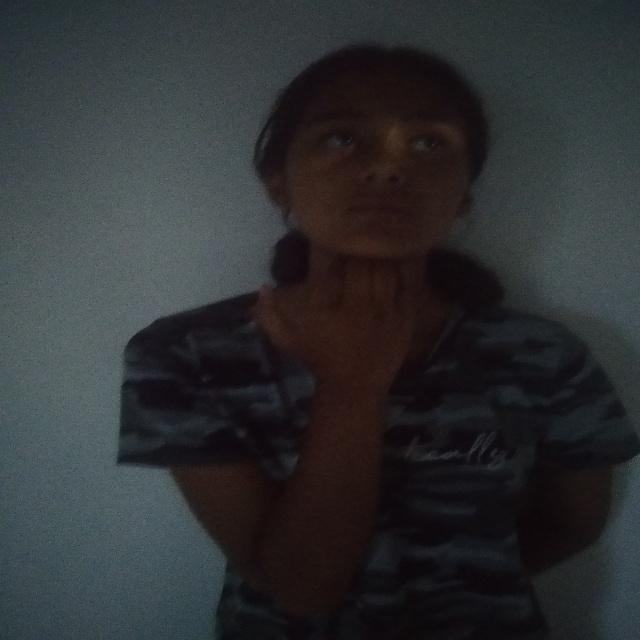Chin Flick: (236, 42, 506, 413)
